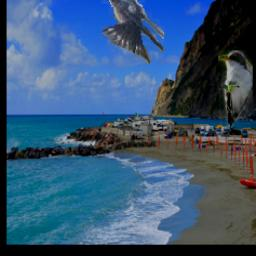Cuckoo: (218, 51, 253, 128)
Swallow: (102, 0, 165, 65)
